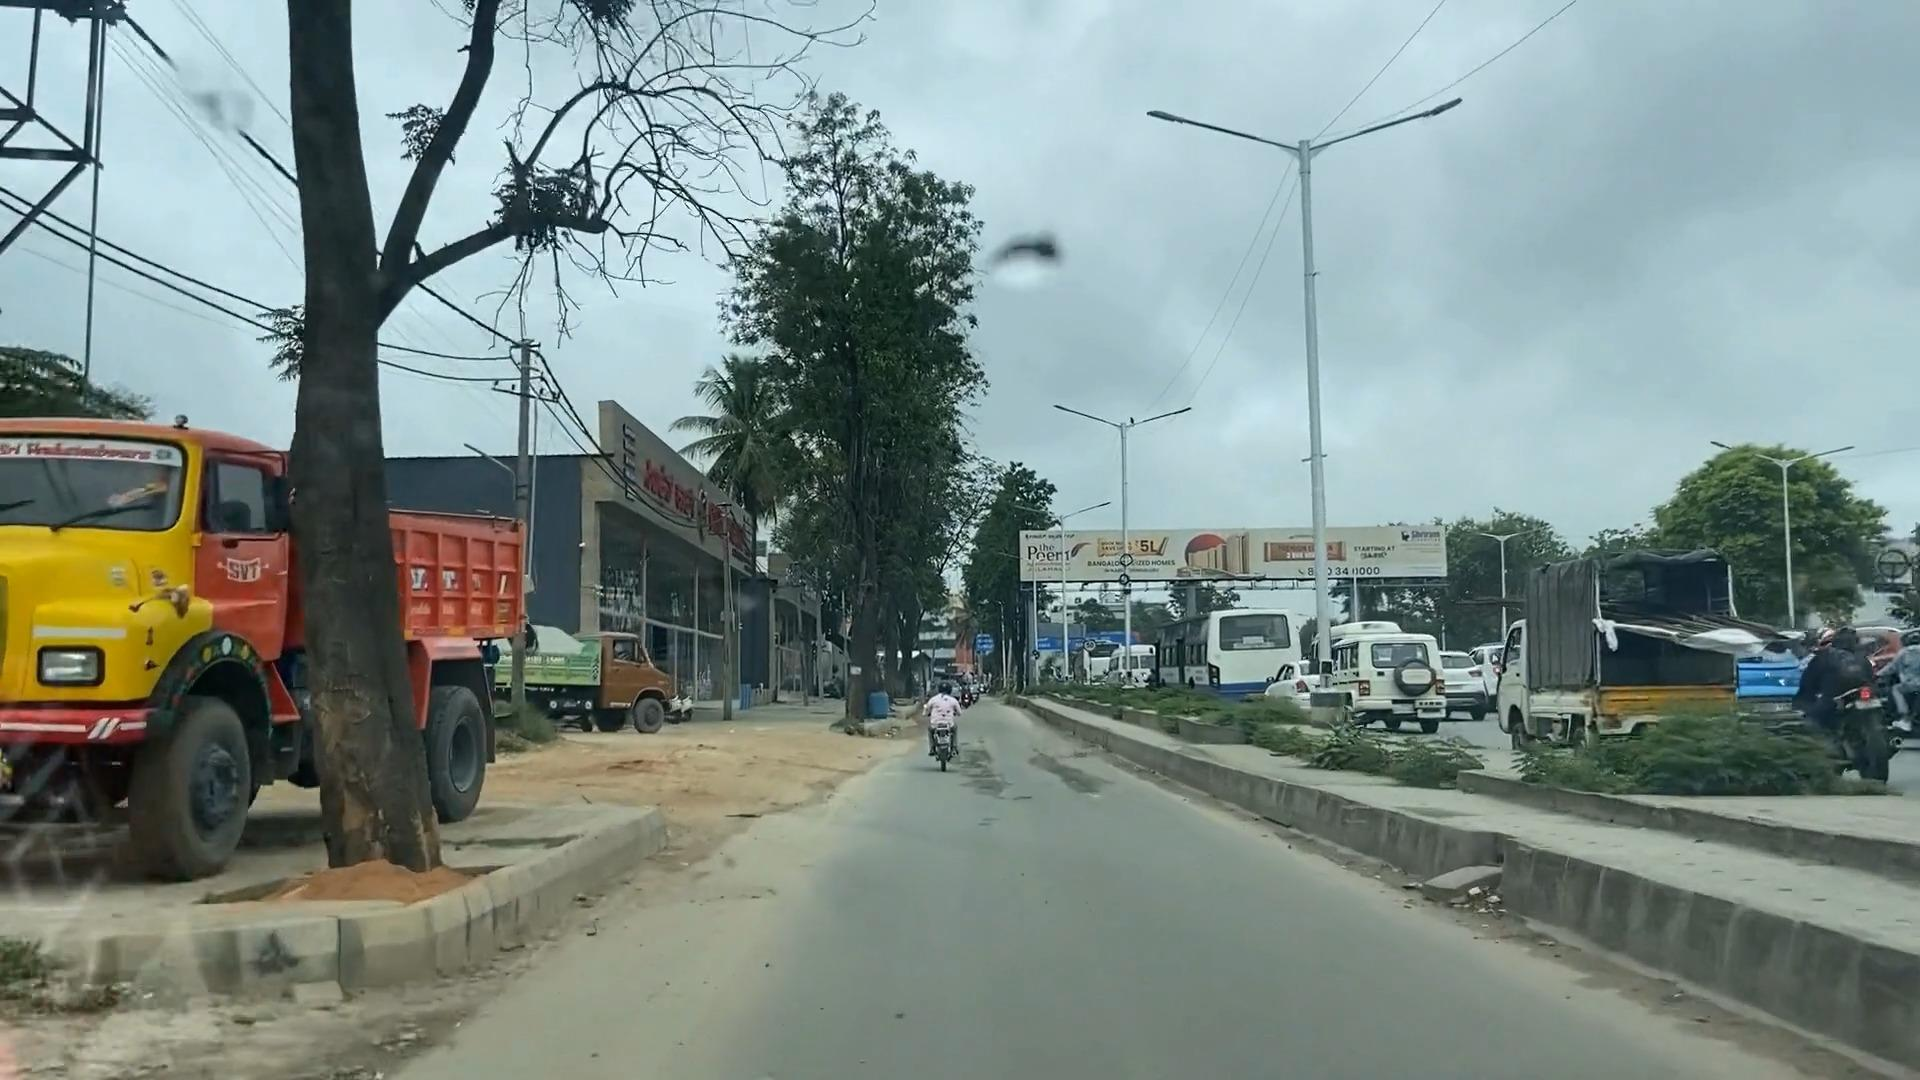HMV: (13, 413, 505, 836)
